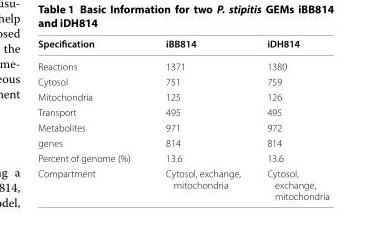table: (37, 36, 328, 201)
table column: (37, 36, 147, 201), (147, 36, 253, 201), (253, 36, 328, 201)
table column header: (37, 36, 328, 54)
table row: (37, 165, 328, 201), (37, 54, 328, 73), (37, 36, 328, 54), (37, 88, 328, 104), (37, 134, 328, 150), (37, 73, 328, 88), (37, 104, 328, 119), (37, 119, 328, 134), (37, 150, 328, 165)
